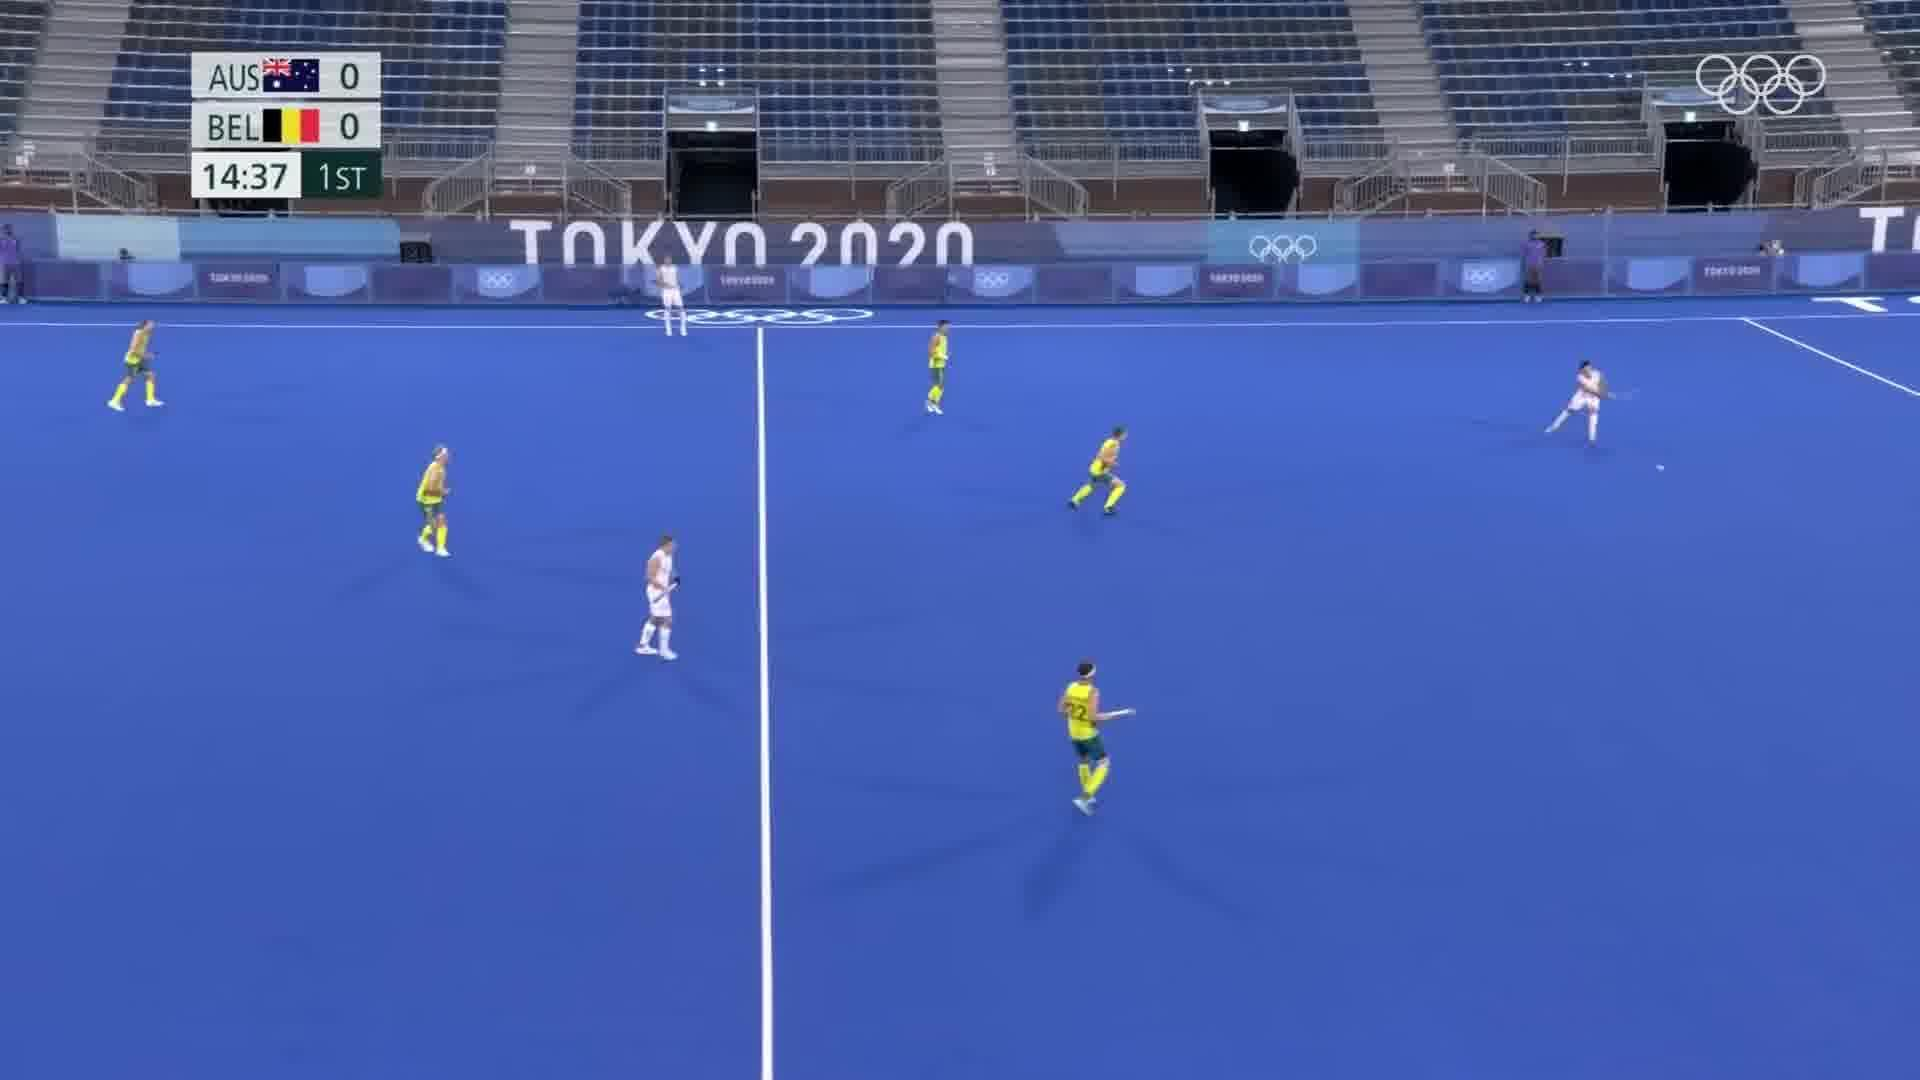ball: (1646, 450, 1673, 487)
